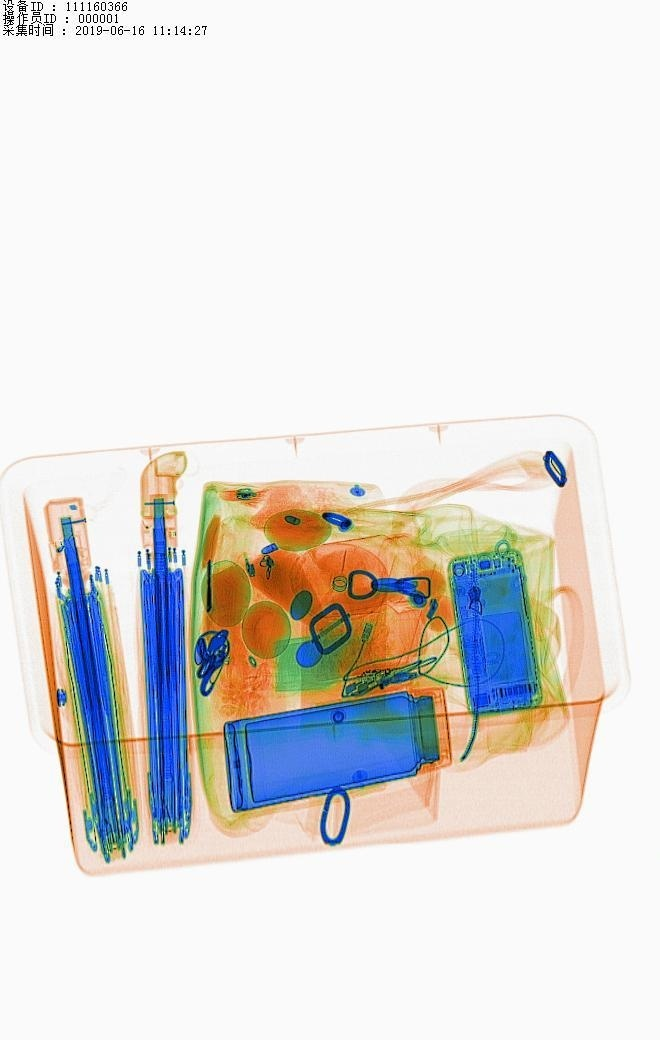NonmetallicFire: (210, 473, 271, 523)
